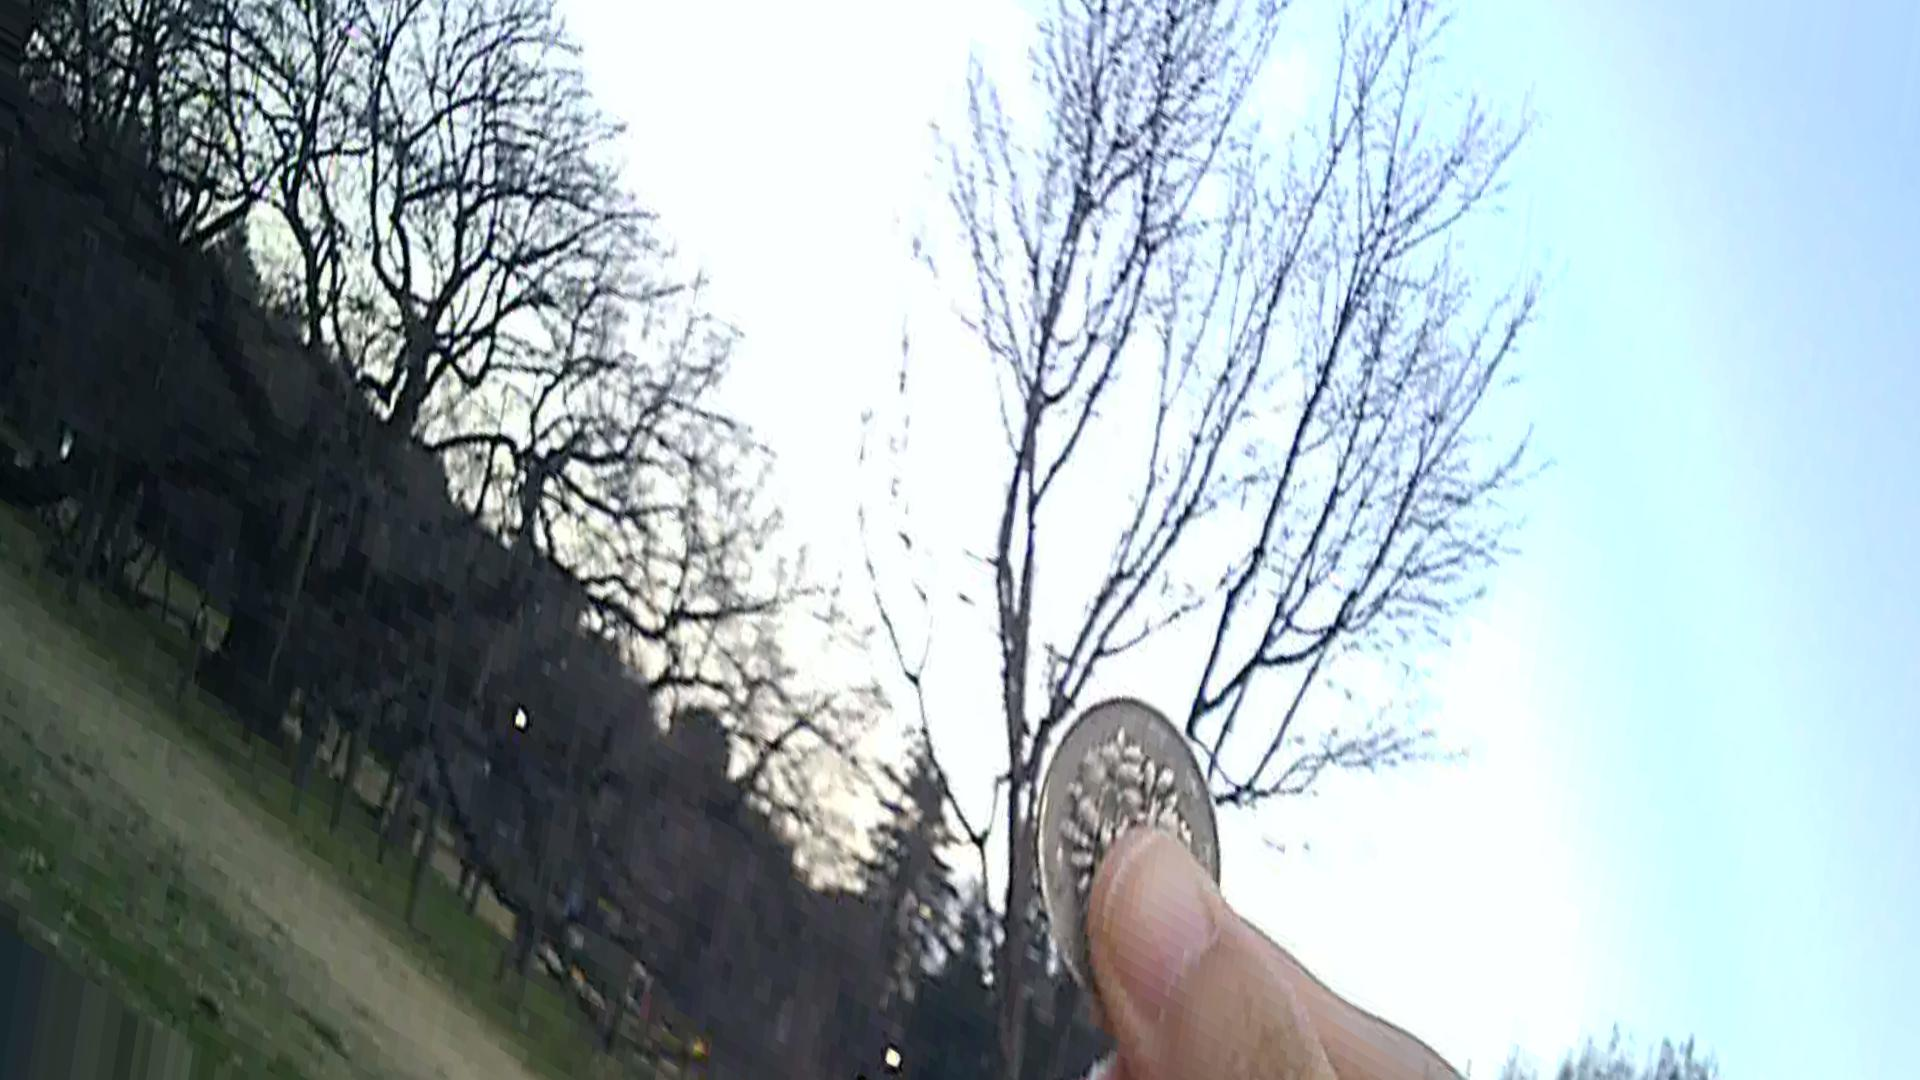100 Yen: (1030, 680, 1273, 1004)
